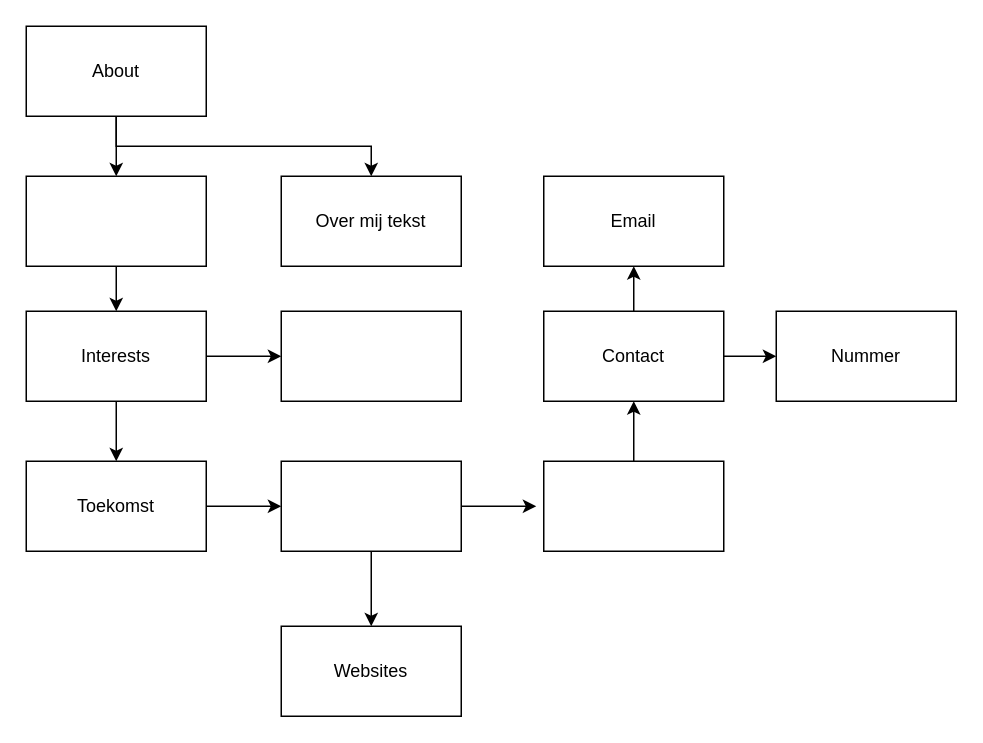
The diagram is 983 pixels wide and 743 high, and some of its shapes have lost their labels. The shapes that lost their labels are listed below. From the top down, each one's centre as x and y in pixels, then its label:
At (115,220): "Foto".
At (370,355): "Hobby's".
At (370,505): "Projects".
At (633,505): "Java".
